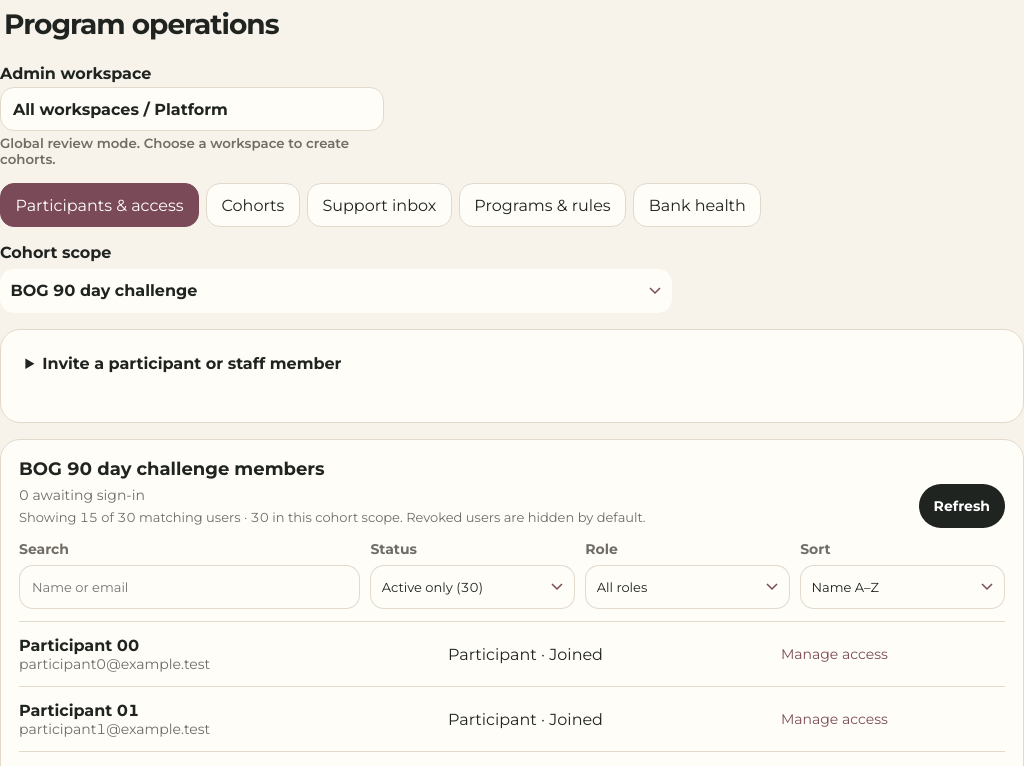
Test: staff operation hierarchy › keeps ordinary platform support reachable without the default global cohort filter
Expected: the button "Refresh" is enabled, top-left (919, 484), bottom-right (1005, 528)
Expected: the dropdown labelled "Cohort scope" shows "BOG 90 day challenge", top-left (0, 269), bottom-right (672, 313)
Click the button "Support inbox" at (379, 205), box top-left (307, 183), bottom-right (452, 227)
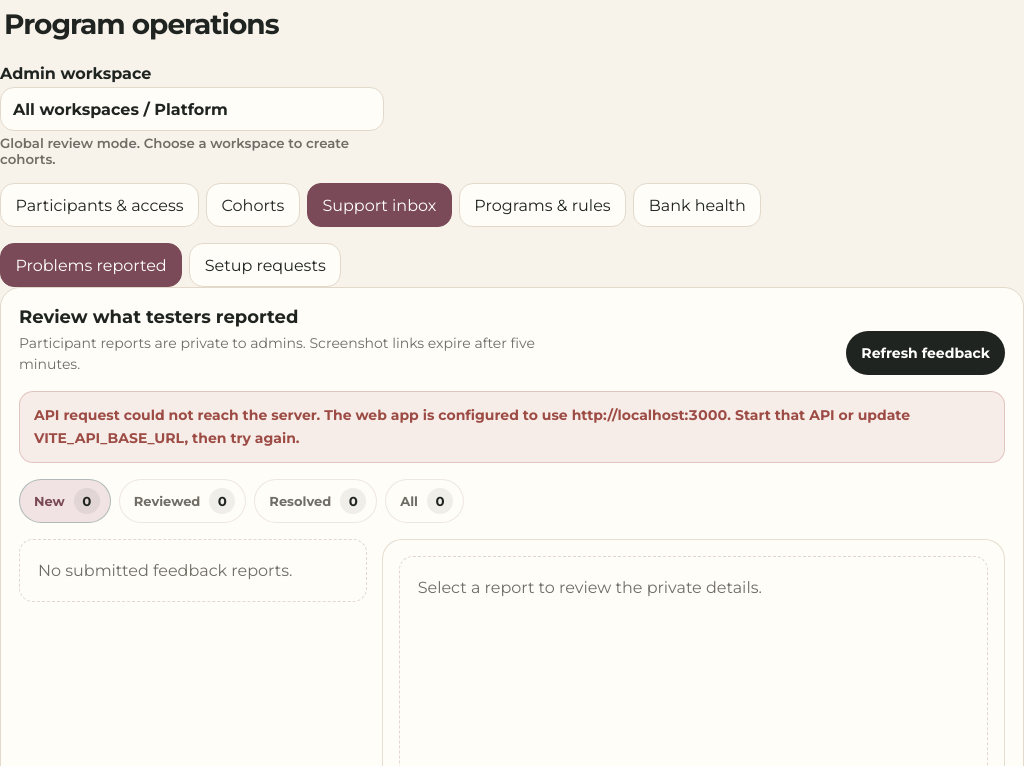
Click the button "Setup requests" at (265, 265), box top-left (189, 243), bottom-right (341, 287)
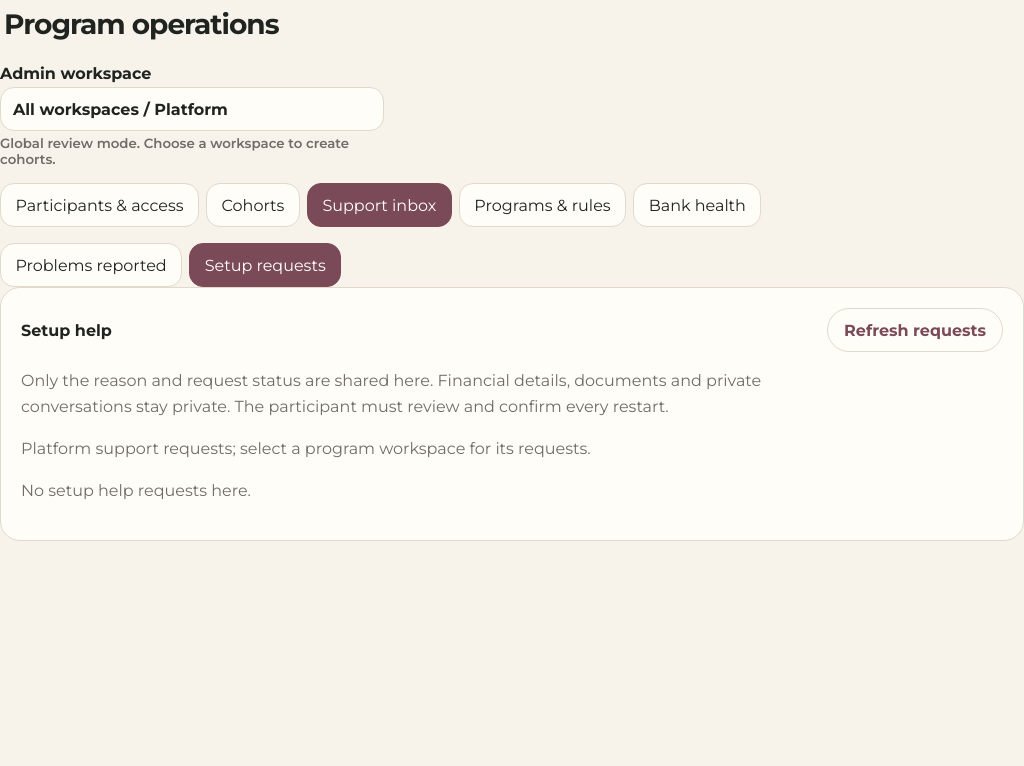
Now the text "Platform support requests; select a program workspace for its requests." is shown, box top-left (21, 439), bottom-right (591, 458)
